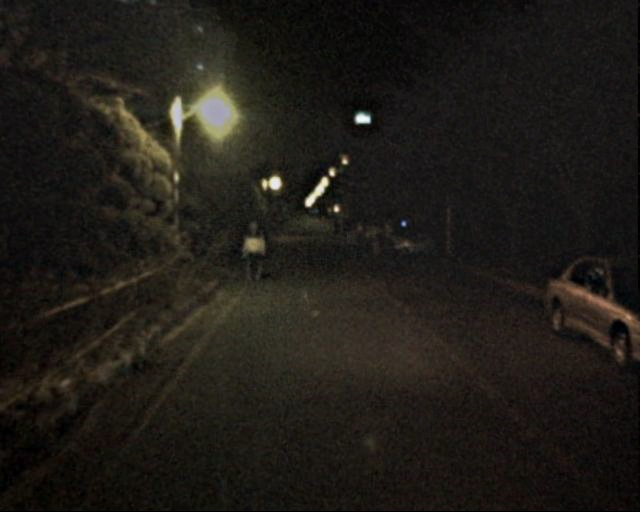person: (238, 217, 267, 288), (369, 222, 385, 262), (332, 219, 353, 244)
